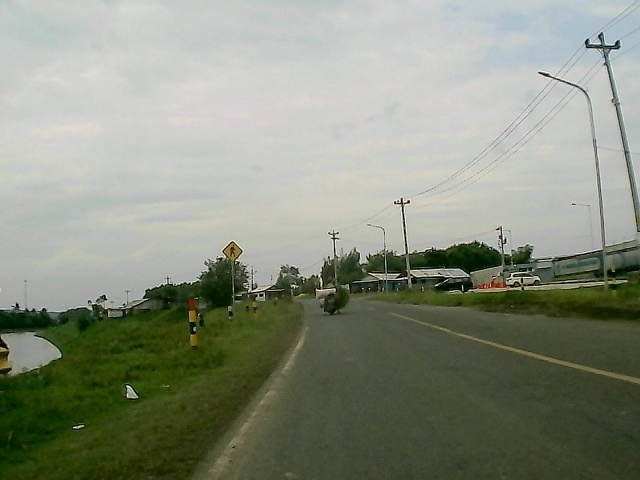Peringatan orang menyeberang: (219, 237, 245, 266)
